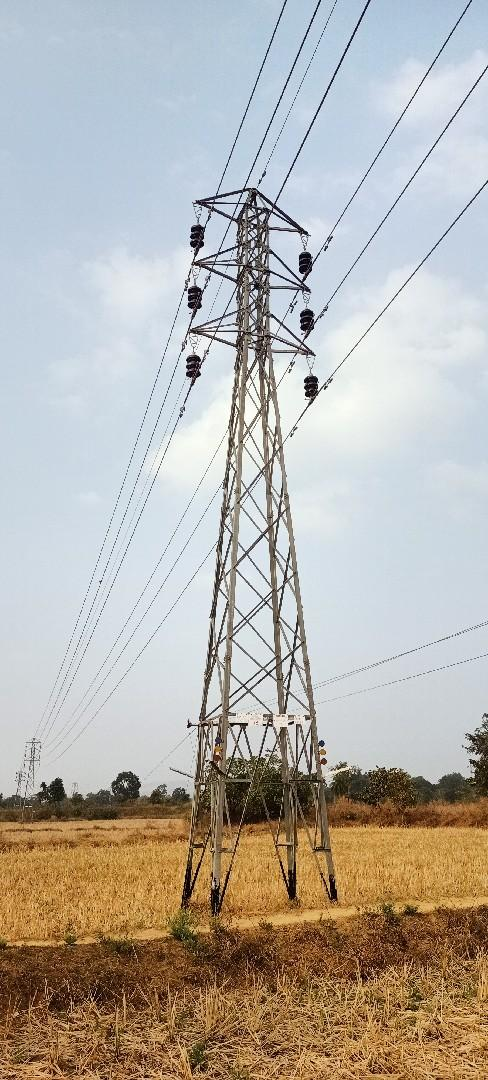GSM Antenna: (163, 182, 365, 884)
